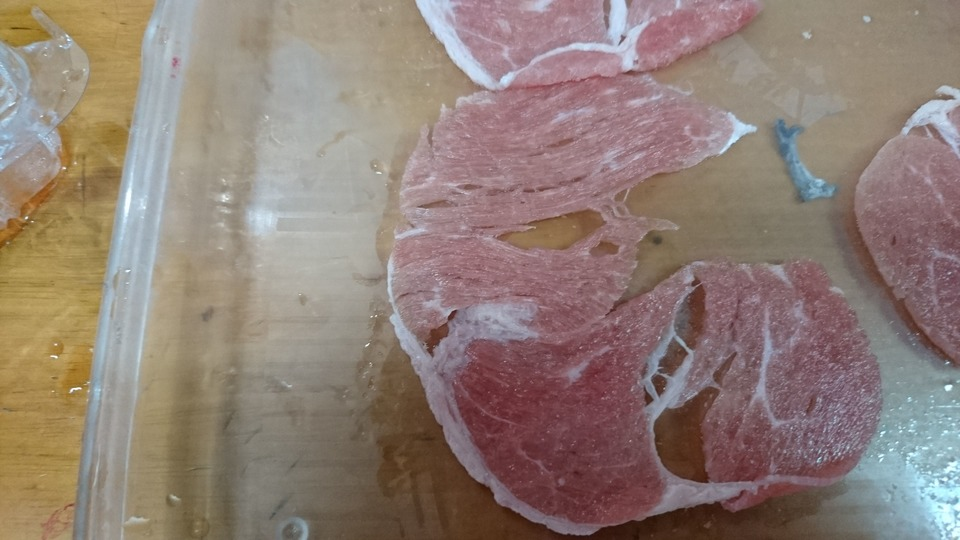restructured meat: (393, 106, 867, 524), (859, 80, 960, 355), (416, 6, 754, 75)
